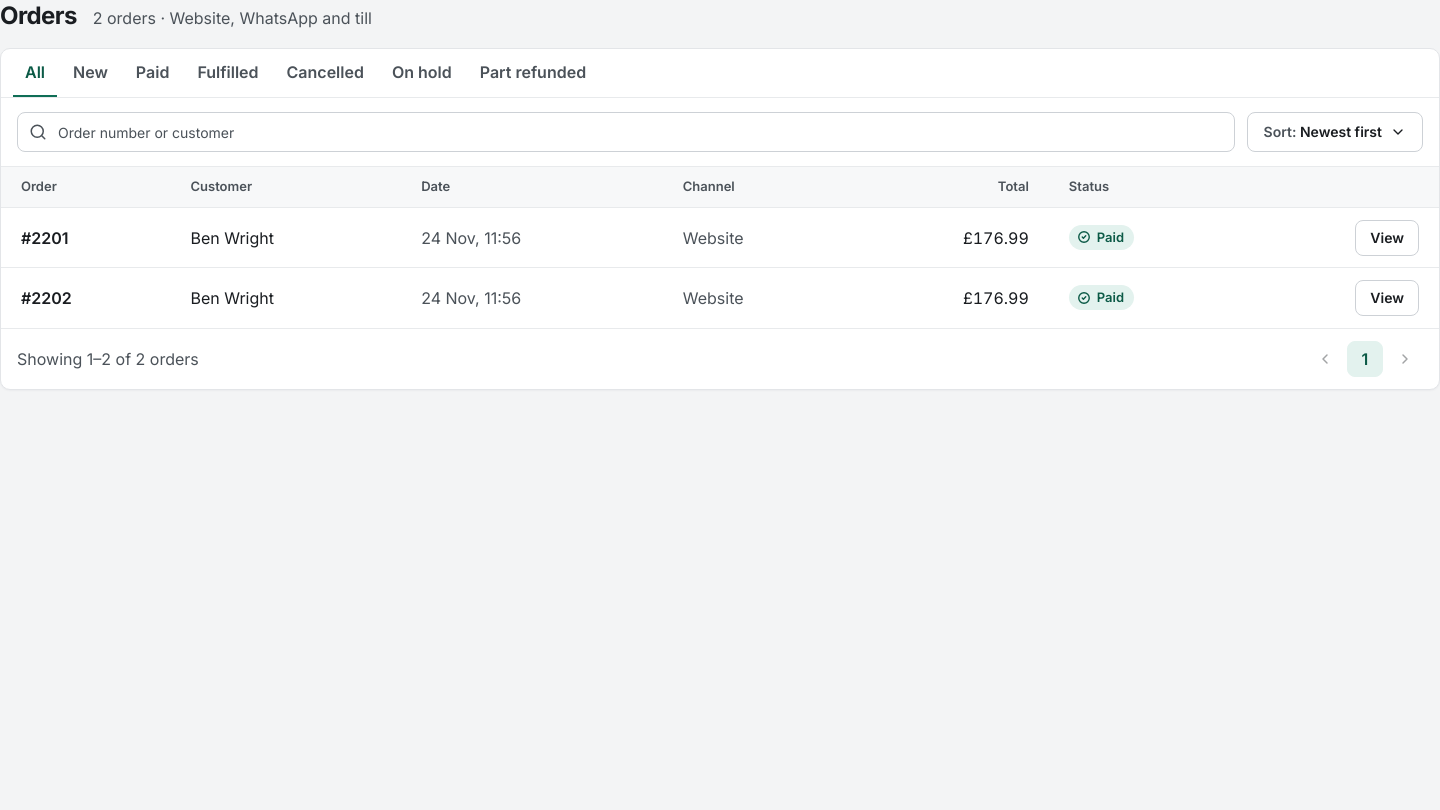
Test case: Order details › says a removed order no longer exists, without a pointless retry, and refreshes the list
This screenshot has width=1440, height=810.
Click the button with aria-label "View order #2201".
click(1387, 238)  # box [1355, 220, 1419, 256]
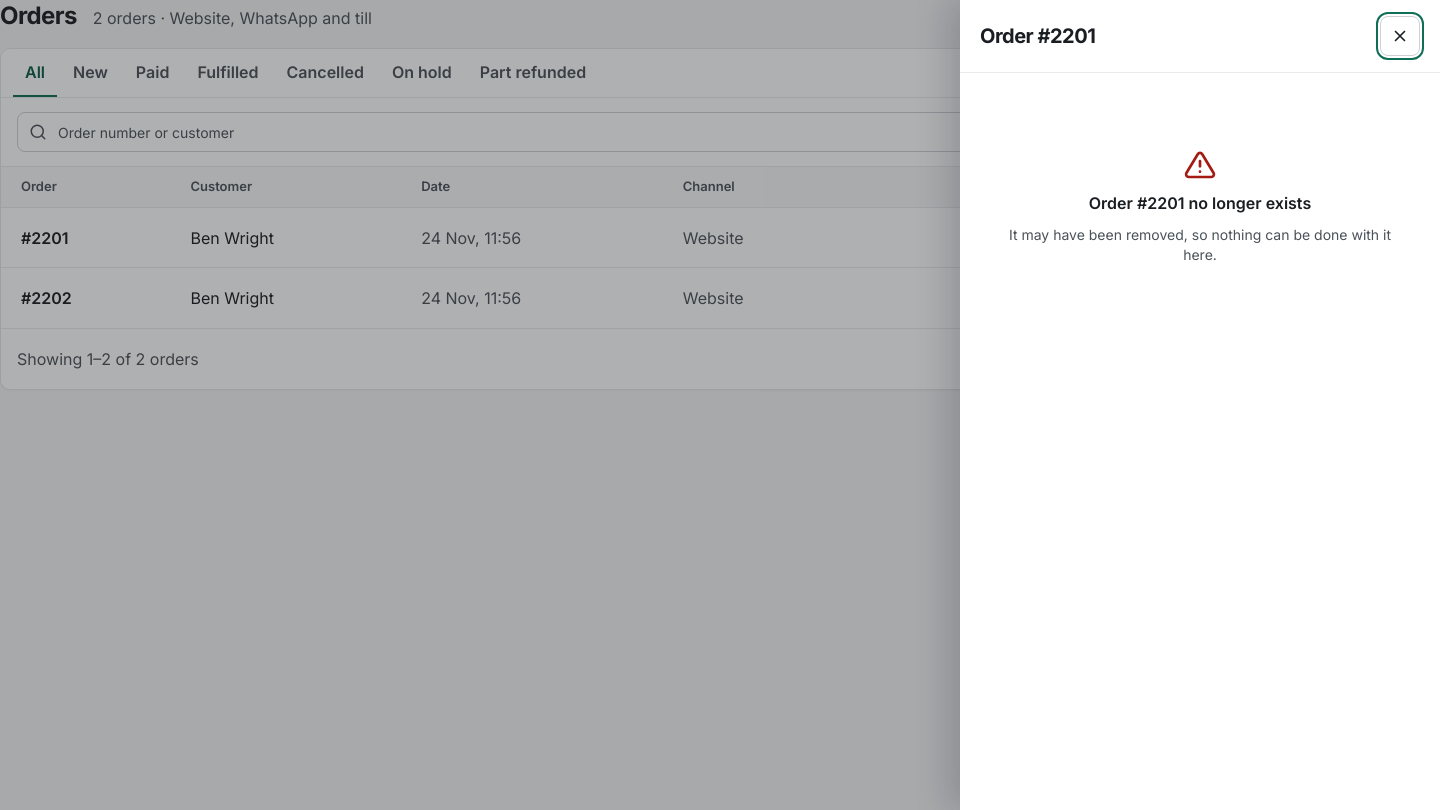
Expected: the message shows "Order #2201 no longer exists", [1089, 193, 1311, 213]
